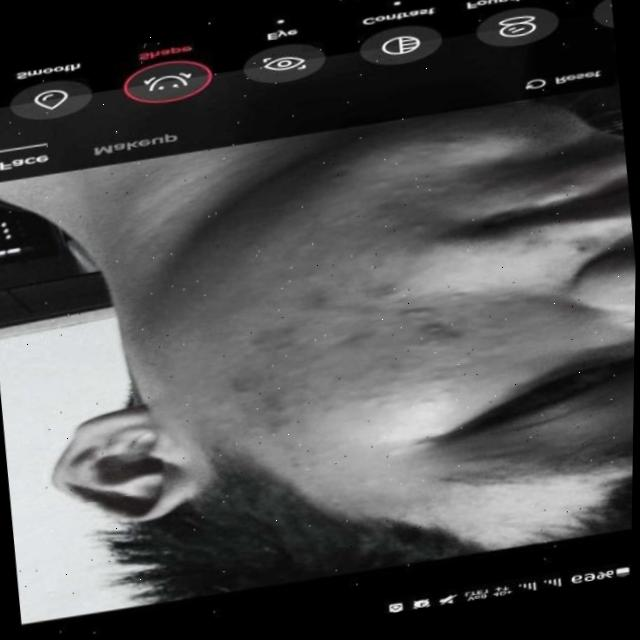Acne: (200, 199, 485, 438)
